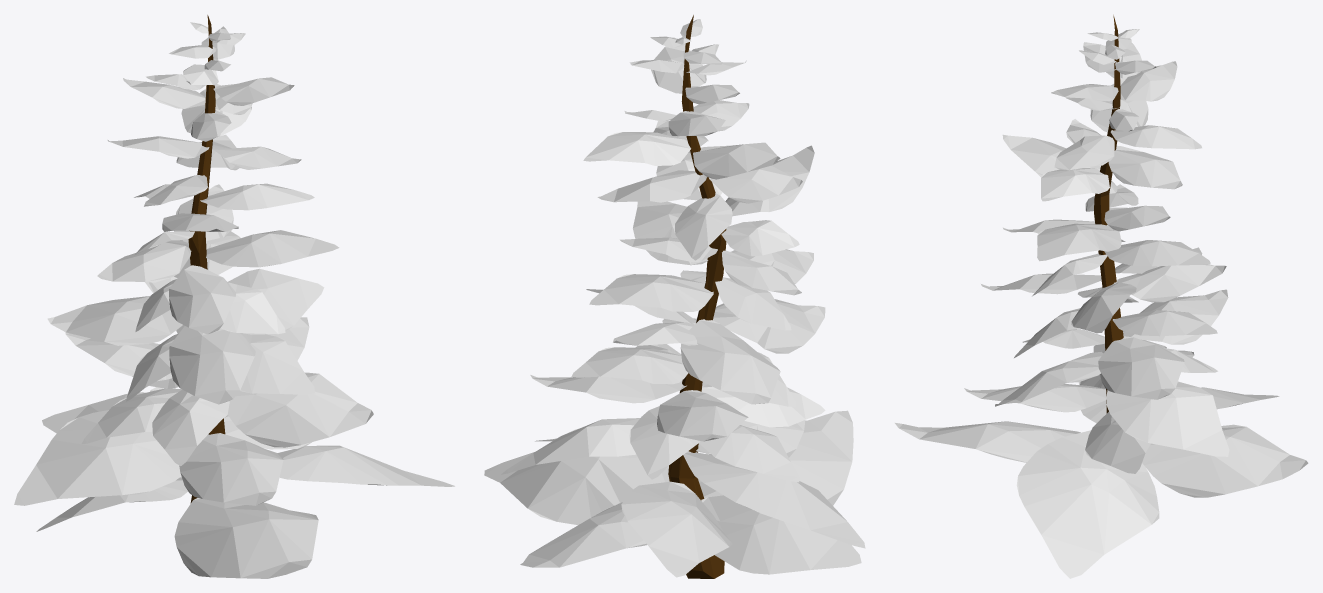
Rendered from scragglyTree.fbx.
3 views of the same model, side by side, from view 1: azimuth 30°, elevation 25°; view 2: azimuth 150°, elevation 25°; view 3: azimuth 270°, elevation 25° (orthographic). The views are drawn at different scales.
Visible parts, largest first — view 1: leaf.001; view 2: leaf.001; view 3: leaf.001.
Part boxes in pixels (box(x1,y1,x2,y2)): leaf.001: box(14, 15, 454, 578); leaf.001: box(484, 15, 865, 578); leaf.001: box(895, 15, 1308, 578).
Bounding box in the file's own units: 53163 × 68031 × 51805.
